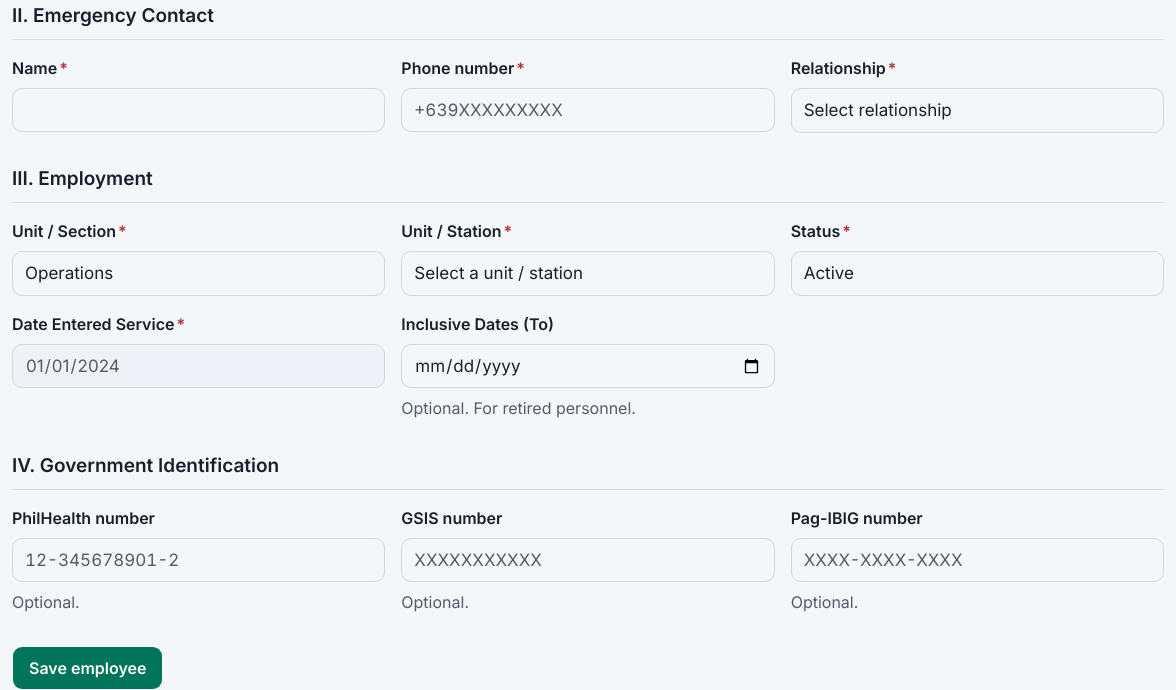
EmployeeForm › blocks saving and explains each empty required field
(page scrolled)
Click the button "Save employee".
click(88, 668)  # box top-left (12, 646), bottom-right (164, 689)
(page scrolled)
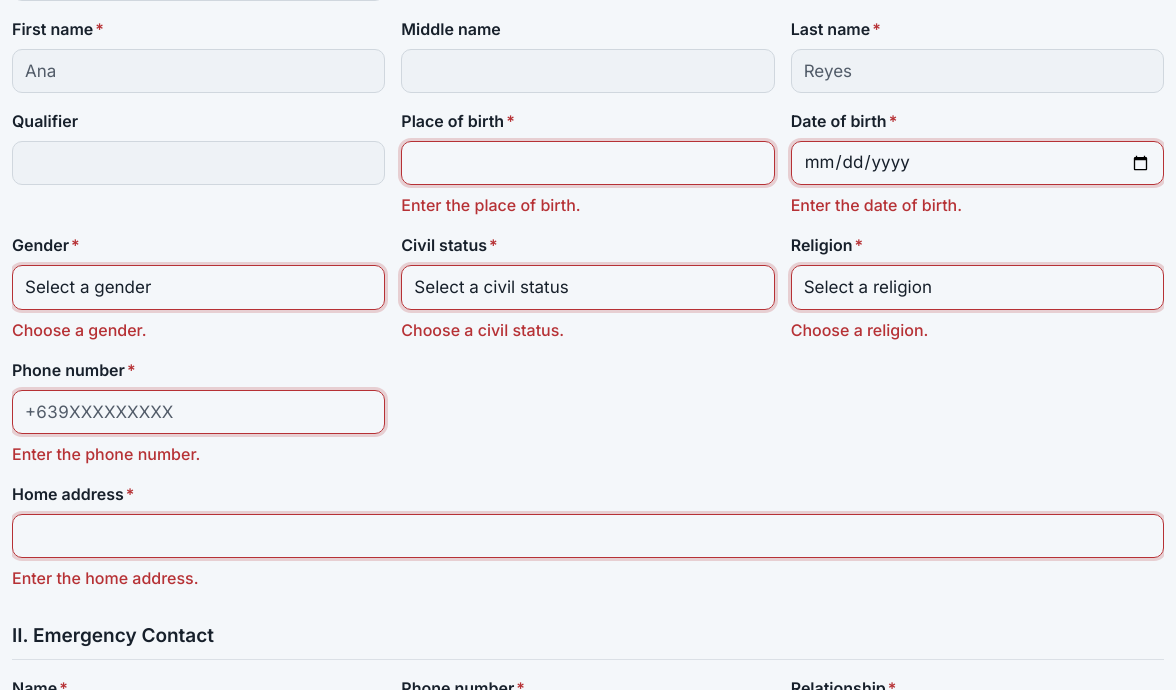
Expected: the text "Enter the place of birth." is shown, top-left (401, 195), bottom-right (581, 215)
Expected: the text "Enter the date of birth." is shown, top-left (791, 195), bottom-right (962, 215)
Expected: the text "Choose a gender." is shown, top-left (12, 320), bottom-right (147, 340)
